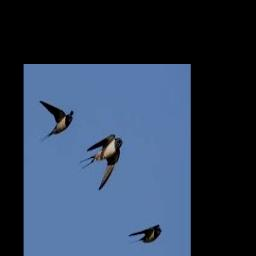Swallow: (78, 134, 123, 190), (39, 100, 73, 143), (128, 224, 161, 244)
